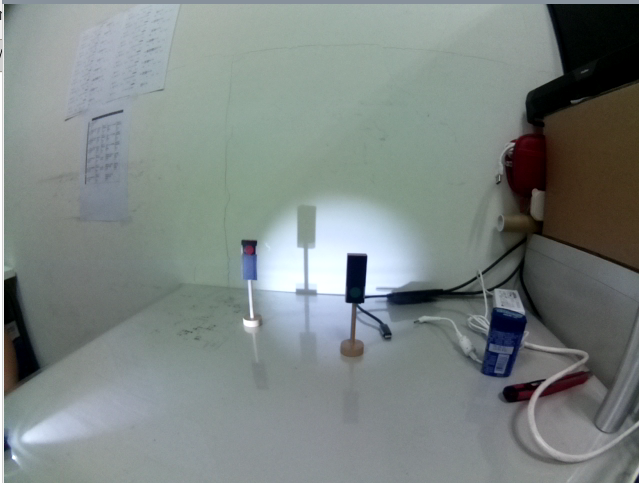Green: (342, 250, 368, 307)
Red: (239, 235, 260, 282)
